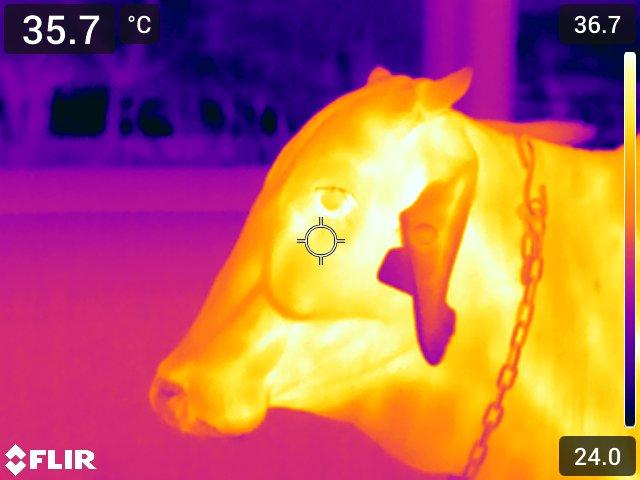ear: (382, 127, 478, 371)
eyes: (305, 173, 363, 231)
neck: (485, 127, 552, 480)
